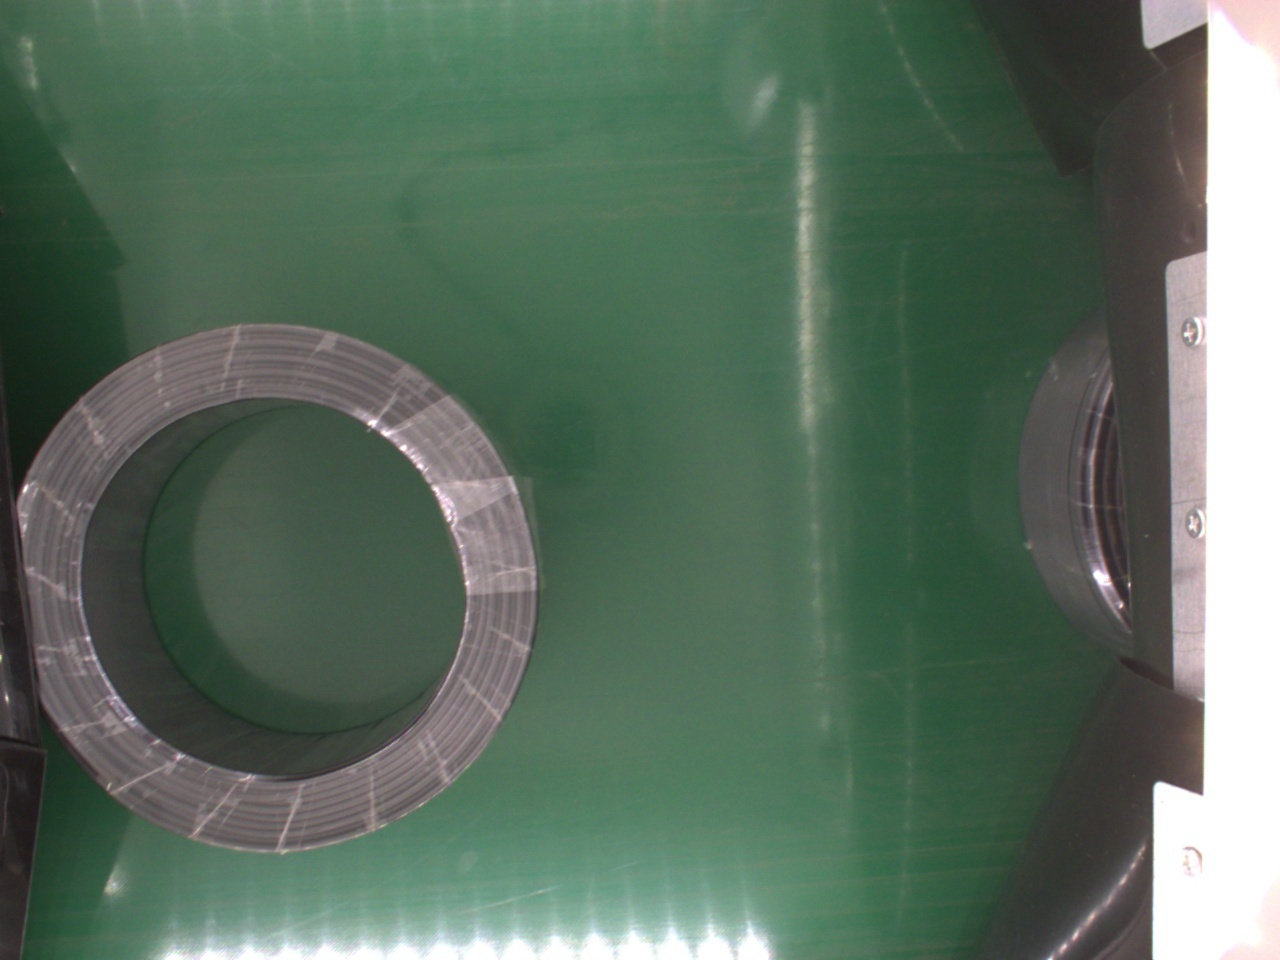black: (15, 317, 534, 853), (1013, 326, 1133, 670)
